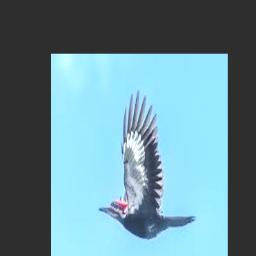Woodpecker: (98, 90, 197, 239)
